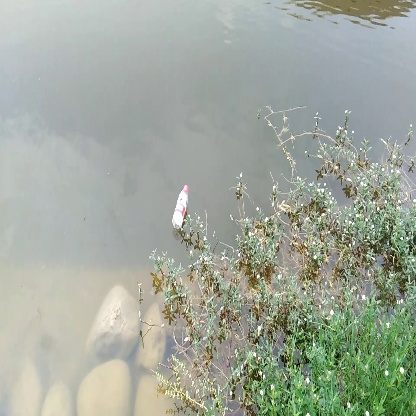bottle: (170, 182, 192, 231)
